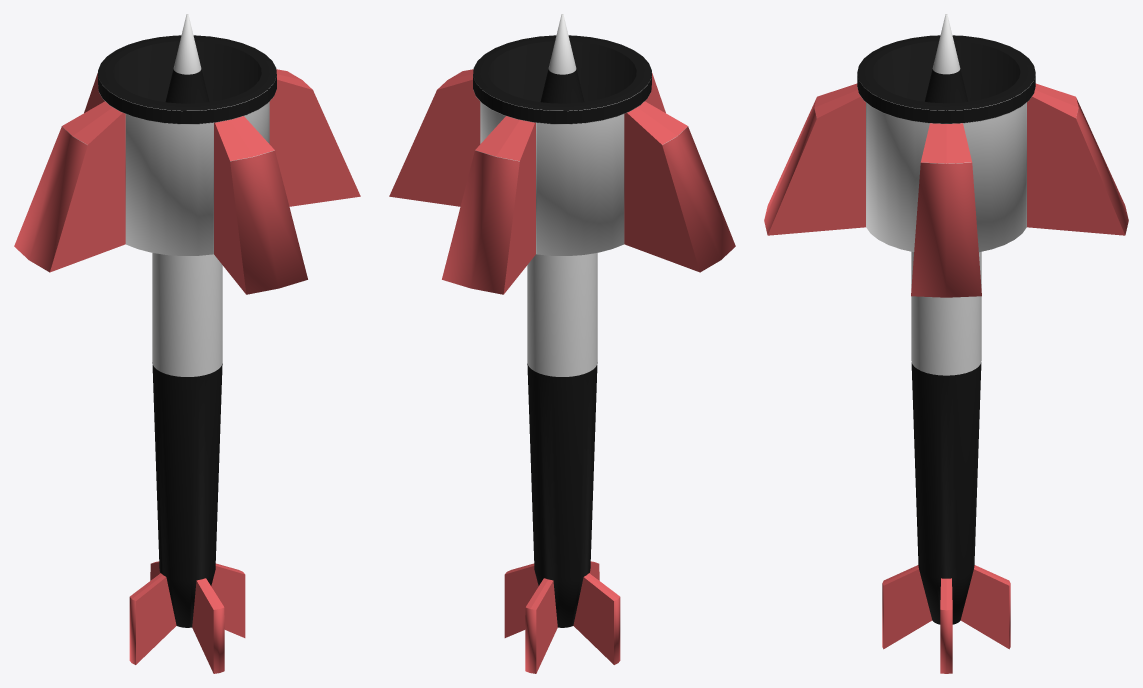
Rendered from Nuclear.fbx.
3 views of the same model, side by side, from view 1: azimuth 30°, elevation 25°; view 2: azimuth 150°, elevation 25°; view 3: azimuth 270°, elevation 25° (orthographic).
Visible parts, largest first — view 1: Nuclear_Station, Nuclear_Bomb; view 2: Nuclear_Station, Nuclear_Bomb; view 3: Nuclear_Station, Nuclear_Bomb.
Boxes of the visible parts, left/top/right/bottom form: Nuclear_Station: left=14, top=35, right=360, bottom=294; Nuclear_Bomb: left=129, top=14, right=245, bottom=673; Nuclear_Station: left=389, top=35, right=735, bottom=294; Nuclear_Bomb: left=504, top=14, right=620, bottom=673; Nuclear_Station: left=764, top=35, right=1128, bottom=297; Nuclear_Bomb: left=882, top=14, right=1010, bottom=673.
Size of the model in its own units: 223 by 426 by 223.
